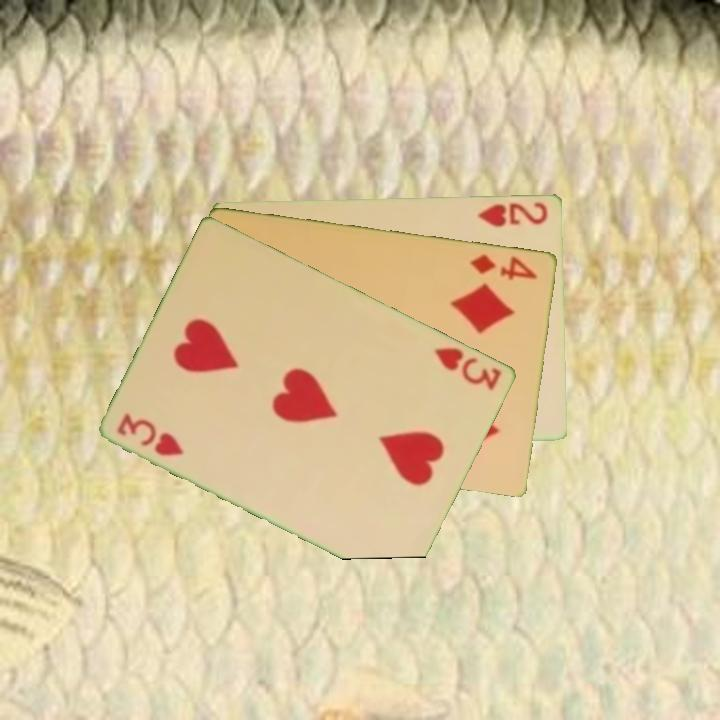2h: (474, 198, 551, 229)
3h: (431, 343, 505, 394), (113, 409, 188, 459)
4d: (467, 250, 541, 282)
